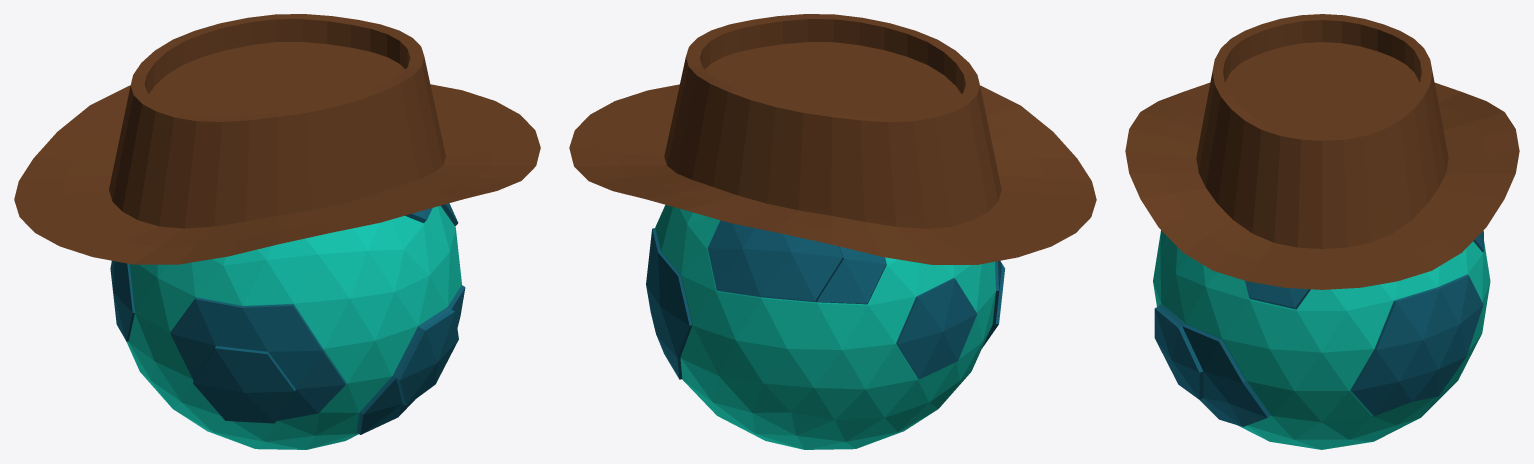
Rendered from şapkalı gezegen.fbx.
3 views of the same model, side by side, from view 1: azimuth 30°, elevation 25°; view 2: azimuth 150°, elevation 25°; view 3: azimuth 270°, elevation 25° (orthographic). The views are drawn at different scales.
Parts seen in each view (by area): view 1: Icosphere.001, Icosphere; view 2: Icosphere.001, Icosphere; view 3: Icosphere.001, Icosphere.
Boxes of the visible parts, x1=… form: Icosphere.001: x1=14, y1=14, x2=540, y2=449; Icosphere: x1=110, y1=203, x2=465, y2=434; Icosphere.001: x1=569, y1=14, x2=1096, y2=449; Icosphere: x1=646, y1=220, x2=1005, y2=379; Icosphere.001: x1=1125, y1=14, x2=1519, y2=449; Icosphere: x1=1154, y1=230, x2=1484, y2=426.
Size of the model in its own units: 1748 by 1282 by 1280.
